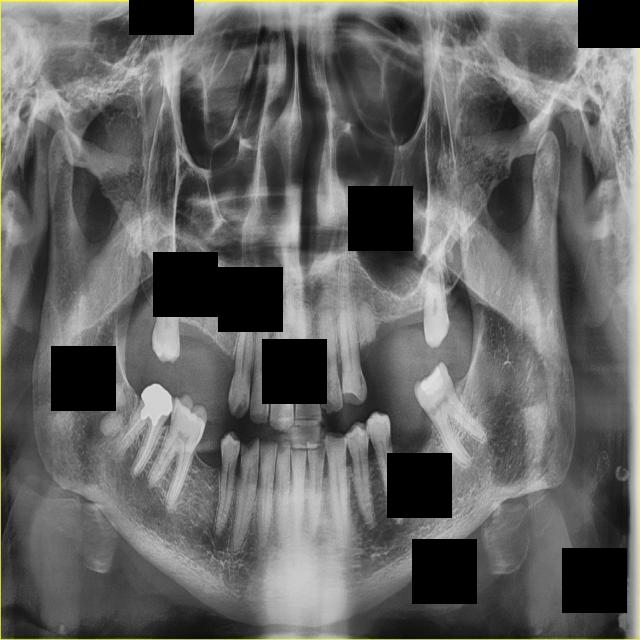72: (93, 378, 129, 413), (357, 300, 377, 357), (96, 409, 127, 440)
74: (132, 424, 157, 475), (118, 417, 143, 446)
NucleOSS Implant: (129, 379, 179, 429)
Sterngold Implant: (317, 373, 334, 413), (384, 425, 394, 458), (356, 370, 368, 390), (426, 405, 441, 420), (240, 391, 249, 411), (261, 393, 269, 414), (171, 405, 177, 420), (364, 431, 370, 443)
Straumann Implant: (417, 364, 452, 399)
